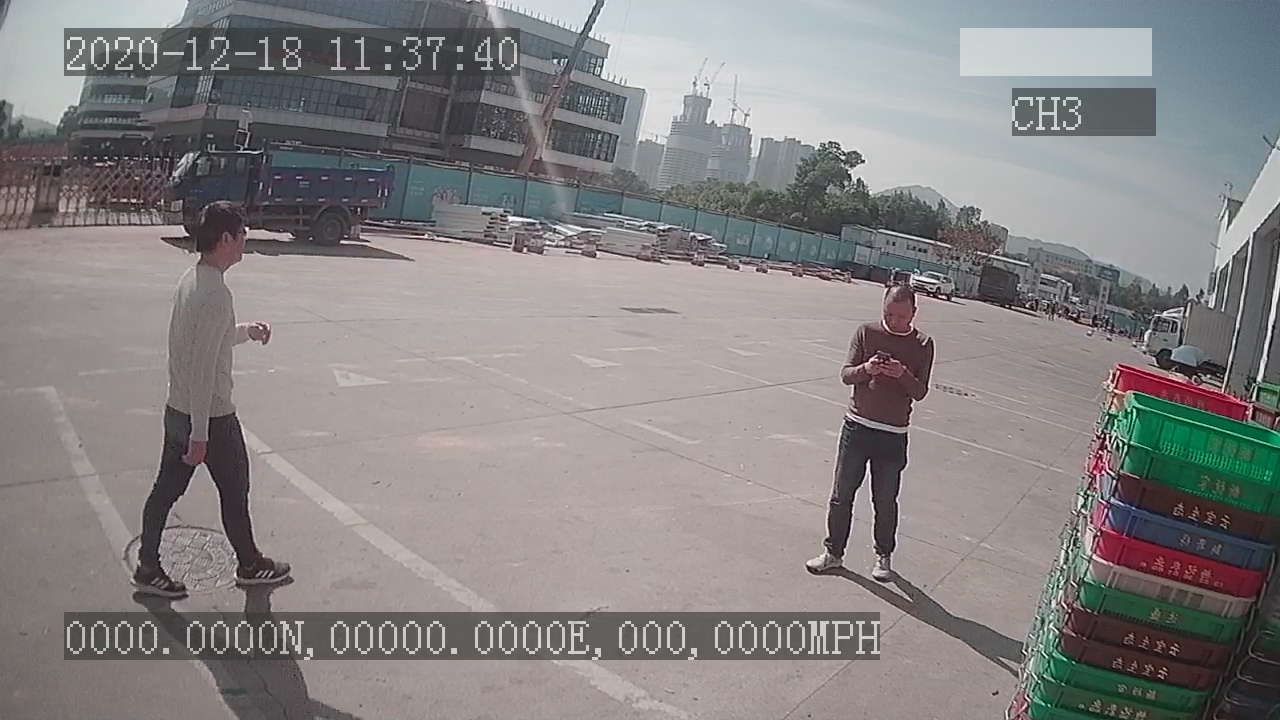person: (804, 282, 936, 584)
